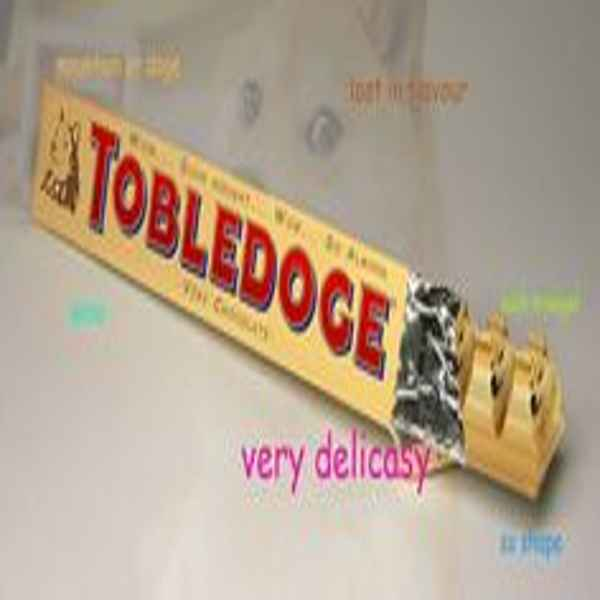doge: (214, 8, 439, 254)
